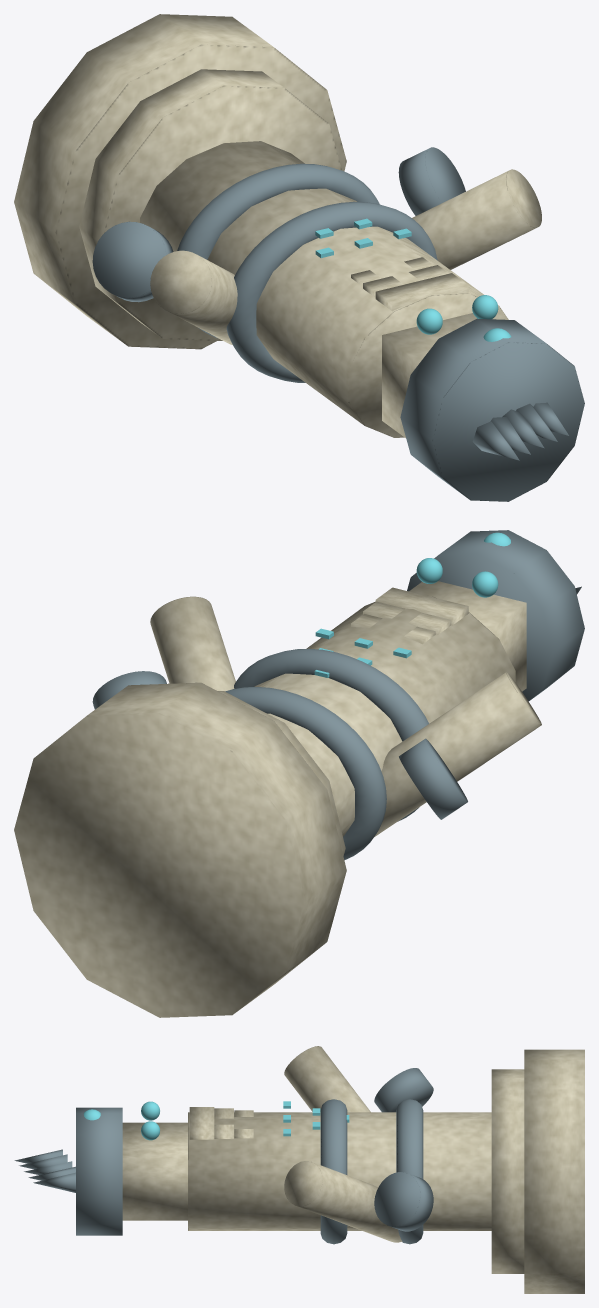
File: 05_guardiao_lamassu_aquatico.obj
3 views of the same model, one above another, from view 1: azimuth 30°, elevation 25°; view 2: azimuth 150°, elevation 25°; view 3: azimuth 270°, elevation 25° (orthographic). The views are drawn at different scales.
Visible parts, largest first — view 1: Cylinder.002, Cylinder, Cylinder.003, Cylinder.001, Torus.001, Cylinder.004, Torus, Cylinder.006, Cylinder.007, Cube, Cylinder.005, Cube.001 (+3 smaller); view 2: Cylinder, Cylinder.002, Cylinder.003, Cylinder.006, Torus, Cylinder.004, Torus.001, Cube, Cylinder.007, Cube.001, Cylinder.001, Cylinder.005 (+2 smaller); view 3: Cylinder.002, Cylinder, Cylinder.001, Cube, Cylinder.003, Cylinder.004, Cylinder.006, Cylinder.005, Torus.001, Torus, Cylinder.007, Cube.001 (+4 smaller).
Part boxes in pixels (x1,y1,x2,y2): Cylinder.002: (140,141,508,437); Cylinder: (14,14,346,349); Cylinder.003: (400,318,584,501); Cylinder.001: (79,69,341,340); Torus.001: (226,201,437,382); Cylinder.004: (412,169,541,269); Torus: (177,163,379,338); Cylinder.006: (150,250,237,344); Cylinder.007: (92,221,173,302); Cube: (382,313,492,437); Cylinder.005: (398,147,465,215); Cube.001: (375,273,468,311); Cylinder: (14,682,346,1017); Cylinder.002: (254,595,515,836); Cylinder.003: (407,530,584,701); Cylinder.006: (374,672,541,837); Torus: (225,687,386,860); Cylinder.004: (150,596,235,691); Torus.001: (234,648,428,821); Cube: (409,581,526,691); Cylinder.007: (399,738,467,819); Cube.001: (375,587,468,625); Cylinder.001: (218,691,345,855); Cylinder.005: (92,671,166,709); Cylinder.002: (188,1112,491,1230); Cylinder: (524,1049,584,1293); Cylinder.001: (491,1069,524,1273); Cube: (122,1122,187,1220); Cylinder.003: (76,1107,122,1235); Cylinder.004: (284,1161,402,1242); Cylinder.006: (284,1046,370,1112); Cylinder.005: (374,1172,433,1231); Torus.001: (320,1099,347,1244); Torus: (396,1099,423,1244); Cylinder.007: (374,1068,433,1112); Cube.001: (189,1107,214,1139).
Bounding box in the file's own units: 2.78 × 2.1 × 4.89.
28 materials, 28 textured.
